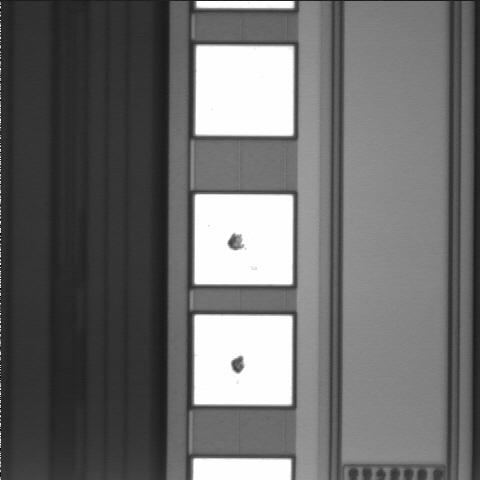pad: (195, 194, 293, 285), (195, 46, 294, 136), (194, 315, 292, 405)
